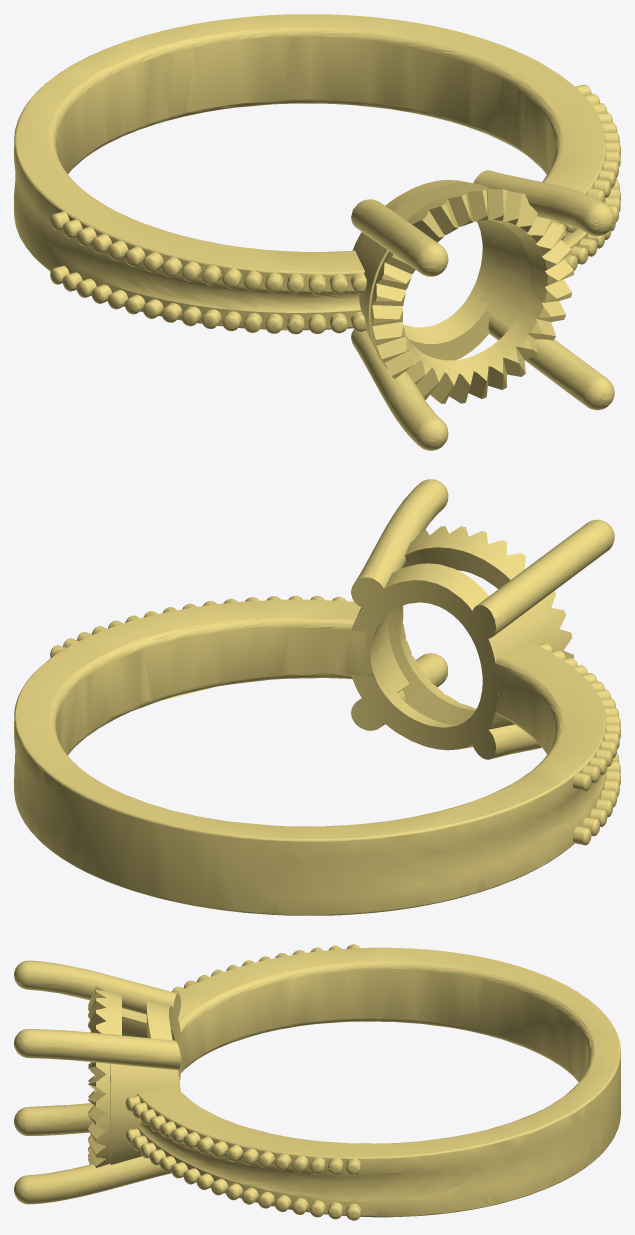
3 views of the same model, one above another, from view 1: azimuth 30°, elevation 25°; view 2: azimuth 150°, elevation 25°; view 3: azimuth 270°, elevation 25° (orthographic). The views are drawn at different scales.
Visible parts, largest first — view 1: lr-0024; view 2: lr-0024; view 3: lr-0024.
Boxes of the visible parts, x1,y1,x2,y2 form: lr-0024: (14, 14, 620, 450); lr-0024: (14, 479, 620, 915); lr-0024: (14, 944, 620, 1220).
Bounding box in the file's own units: 0.8599 × 0.3188 × 1.
